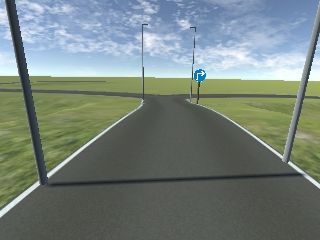right: (193, 69, 207, 82)
